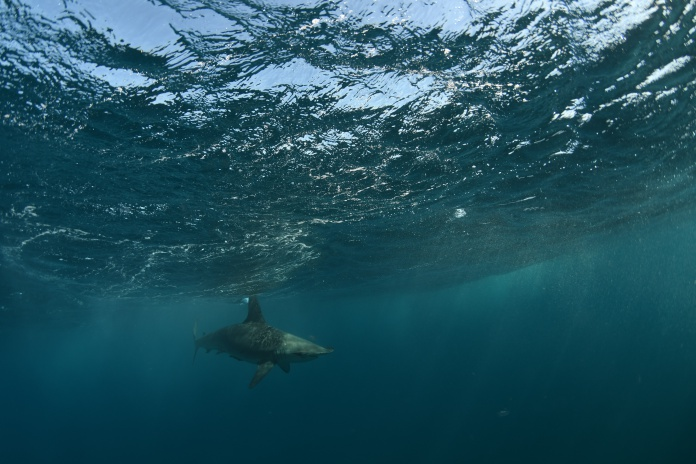Hammer: (172, 276, 332, 398)
